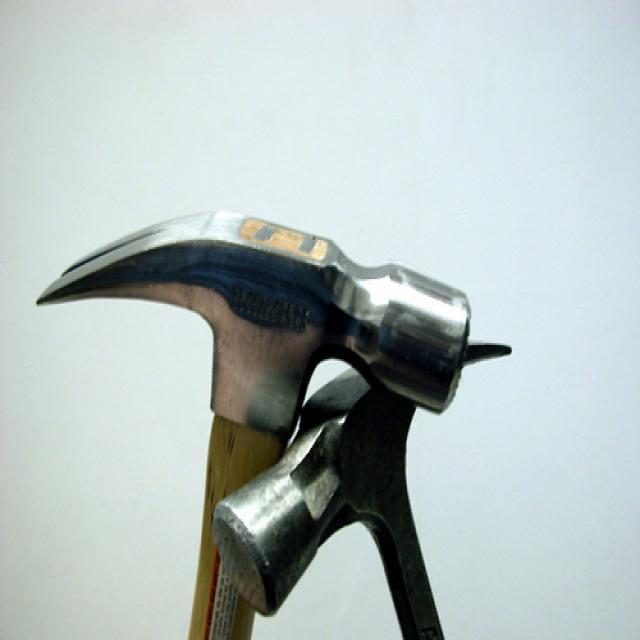hammer: (25, 218, 482, 640), (202, 334, 550, 640)
